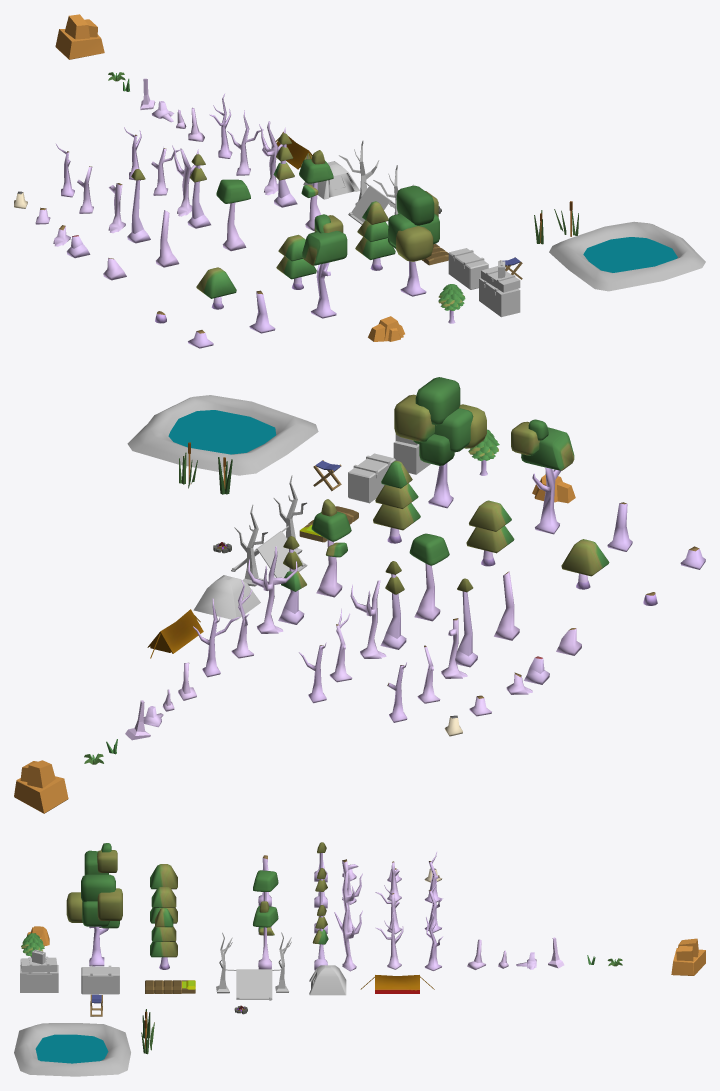
Rendered from Props forest.fbx.
3 views of the same model, one above another, from view 1: azimuth 30°, elevation 25°; view 2: azimuth 150°, elevation 25°; view 3: azimuth 270°, elevation 25° (orthographic). The views are drawn at different scales.
Parts seen in each view (by area): view 1: SA_Env_Pond_02, Cube.004, Cube.001, SA_Prop_AmmoPile_S_01, Cylinder.002, SA_Prop_Plant_03, SA_Prop_TentShelterDeadTree_02, SA_Prop_TreeSnow_01, SA_Prop_TreeSnow_01.002, Cylinder.001, SA_Prop_AmmoCrate_01, SA_Prop_TreePine_01 (+9 smaller); view 2: SA_Env_Pond_02, Cube.004, Cube.001, Cylinder.002, SA_Prop_TentShelterDeadTree_02, SA_Prop_Plant_03, SA_Prop_TreeSnow_01, Cylinder.001, SA_Prop_TentBig_03, SA_Prop_TreeSnow_01.002, SA_Prop_AmmoCrate_01, Cylinder.003 (+10 smaller); view 3: SA_Env_Pond_02, Cube.004, SA_Prop_TentShelterDeadTree_02, SA_Prop_AmmoPile_S_01, Cylinder.002, SA_Prop_AmmoCrate_01, SA_Prop_Plant_03, SA_Prop_TentBig_03, SA_Prop_TreeSnow_01, SA_Prop_TentSmall_03, Cube.001, SA_Prop_Sleepingbag_Open_01 (+8 smaller).
Boxes of the visible parts, left/top/right/bottom form: SA_Env_Pond_02: left=549, top=221, right=705, bottom=291; Cube.004: left=388, top=185, right=439, bottom=296; Cube.001: left=302, top=214, right=347, bottom=318; SA_Prop_AmmoPile_S_01: left=479, top=260, right=520, bottom=317; Cylinder.002: left=355, top=201, right=395, bottom=270; SA_Prop_Plant_03: left=55, top=14, right=104, bottom=59; SA_Prop_TentShelterDeadTree_02: left=339, top=140, right=413, bottom=224; SA_Prop_TreeSnow_01: left=299, top=150, right=333, bottom=230; SA_Prop_TreeSnow_01.002: left=216, top=179, right=250, bottom=251; Cylinder.001: left=276, top=234, right=316, bottom=289; SA_Prop_AmmoCrate_01: left=448, top=248, right=488, bottom=289; SA_Prop_TreePine_01: left=273, top=133, right=297, bottom=207; SA_Env_Pond_02: left=127, top=395, right=318, bottom=475; Cube.004: left=394, top=377, right=486, bottom=508; Cube.001: left=511, top=419, right=574, bottom=534; Cylinder.002: left=373, top=460, right=420, bottom=543; SA_Prop_TentShelterDeadTree_02: left=231, top=475, right=307, bottom=586; SA_Prop_Plant_03: left=14, top=760, right=68, bottom=813; SA_Prop_TreeSnow_01: left=311, top=499, right=351, bottom=597; Cylinder.001: left=466, top=500, right=514, bottom=566; SA_Prop_TentBig_03: left=193, top=575, right=260, bottom=620; SA_Prop_TreeSnow_01.002: left=409, top=533, right=449, bottom=621; SA_Prop_AmmoCrate_01: left=348, top=453, right=395, bottom=503; Cylinder.003: left=561, top=539, right=609, bottom=589; SA_Env_Pond_02: left=14, top=1023, right=130, bottom=1076; Cube.004: left=66, top=874, right=122, bottom=966; SA_Prop_TentShelterDeadTree_02: left=216, top=932, right=291, bottom=1000; SA_Prop_AmmoPile_S_01: left=20, top=949, right=58, bottom=992; Cylinder.002: left=150, top=908, right=177, bottom=969; SA_Prop_AmmoCrate_01: left=81, top=965, right=119, bottom=994; SA_Prop_Plant_03: left=671, top=938, right=705, bottom=975; SA_Prop_TentBig_03: left=309, top=965, right=346, bottom=995; SA_Prop_TreeSnow_01: left=253, top=901, right=278, bottom=969; SA_Prop_TentSmall_03: left=360, top=975, right=434, bottom=993; Cube.001: left=84, top=843, right=117, bottom=928; SA_Prop_Sleepingbag_Open_01: left=145, top=980, right=195, bottom=993.
Bounding box in the file's own units: 35.33 × 7.72 × 50.27.
